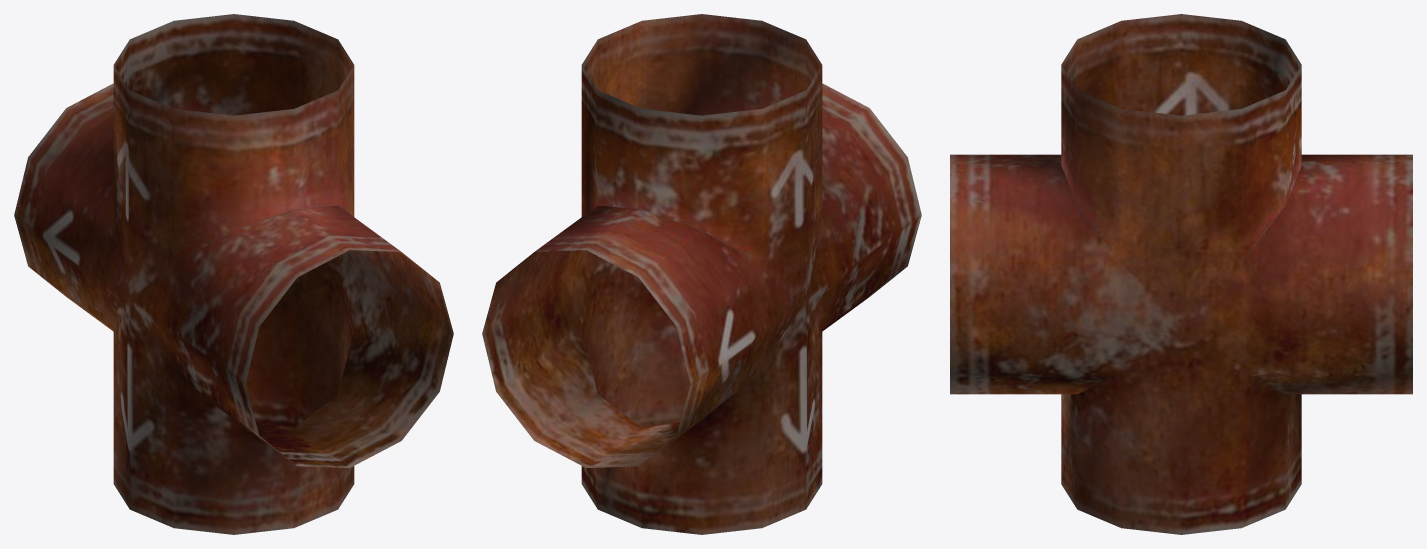
The model's file is stylized_pipe_11.glb.
3 views of the same model, side by side, from view 1: azimuth 30°, elevation 25°; view 2: azimuth 150°, elevation 25°; view 3: azimuth 270°, elevation 25° (orthographic).
Parts seen in each view (by area): view 1: stylized_pipe_11; view 2: stylized_pipe_11; view 3: stylized_pipe_11.
Part boxes in pixels (bbox=[...]): stylized_pipe_11: bbox=[14, 14, 453, 534]; stylized_pipe_11: bbox=[482, 14, 921, 534]; stylized_pipe_11: bbox=[950, 14, 1412, 534].
Size of what is drawn, in the model's own units: 0.0832 by 0.16 by 0.16.
Materials: 1 (1 with a texture image).
